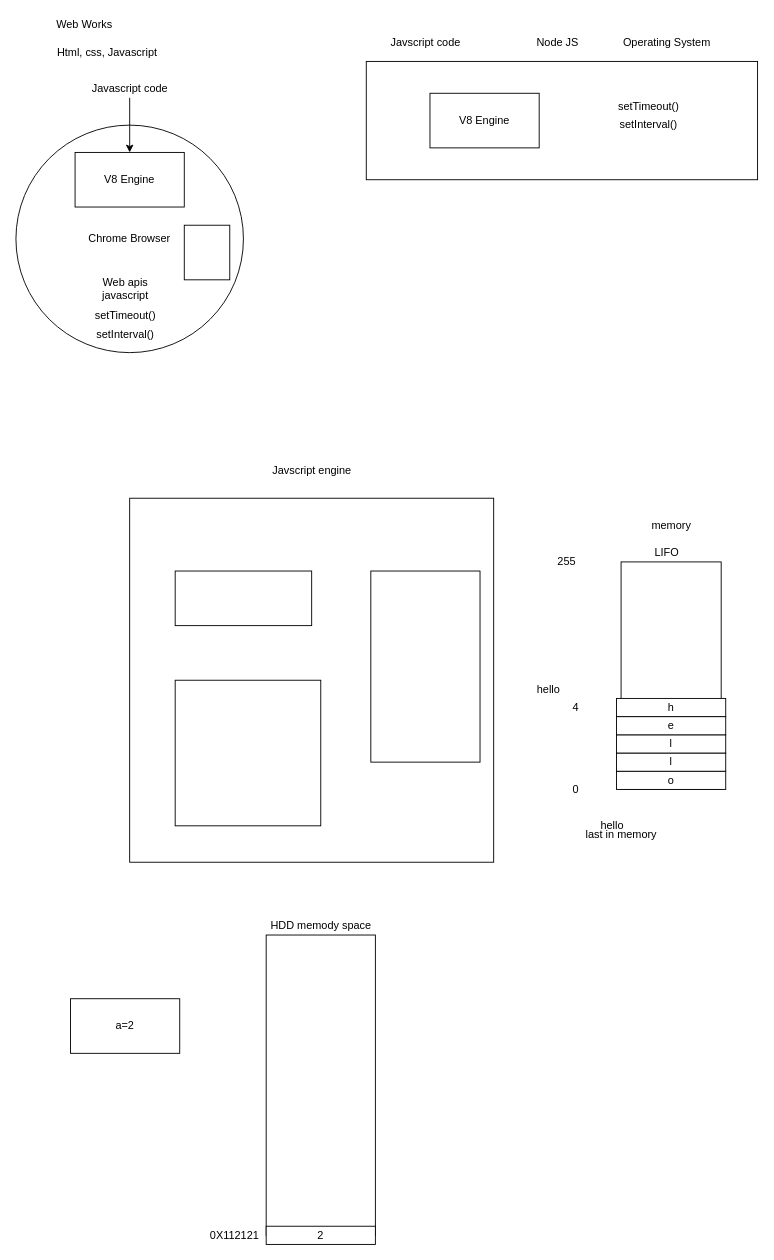
Some shapes in this 774 by 1260 pixel diagram are drawn without their labels. The centre of each missing label's shape, as x and y in pixels:
"Call Stack" belongs at [247,752].
"Event Loop" belongs at [425,666].
"Task Queue" belongs at [243,598].
